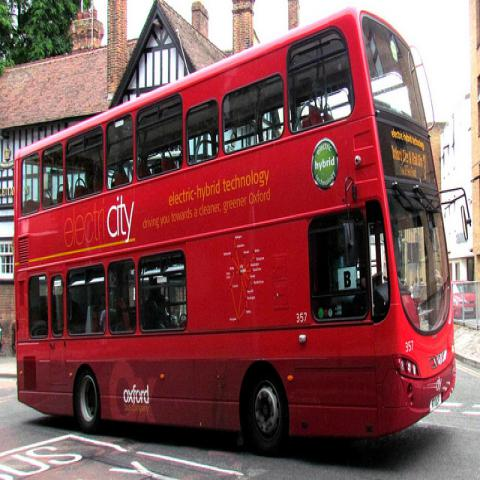bus: (15, 7, 471, 456)
car: (452, 280, 476, 319)
